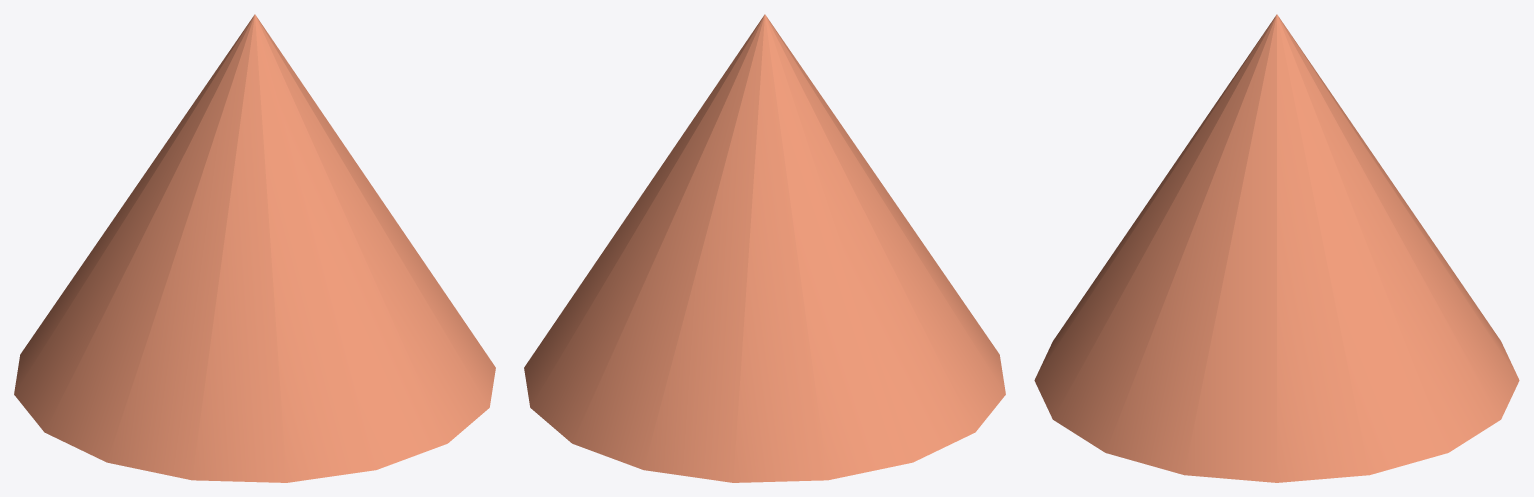
Rendered from party.glb.
3 views of the same model, side by side, from view 1: azimuth 30°, elevation 25°; view 2: azimuth 150°, elevation 25°; view 3: azimuth 270°, elevation 25° (orthographic).
Parts seen in each view (by area): view 1: party; view 2: party; view 3: party.
Part boxes in pixels (left/top/right/bottom): party: left=14, top=14, right=495, bottom=482; party: left=524, top=14, right=1005, bottom=482; party: left=1034, top=14, right=1519, bottom=482.
Size of the model in its own units: 0.6 by 0.5 by 0.6.
